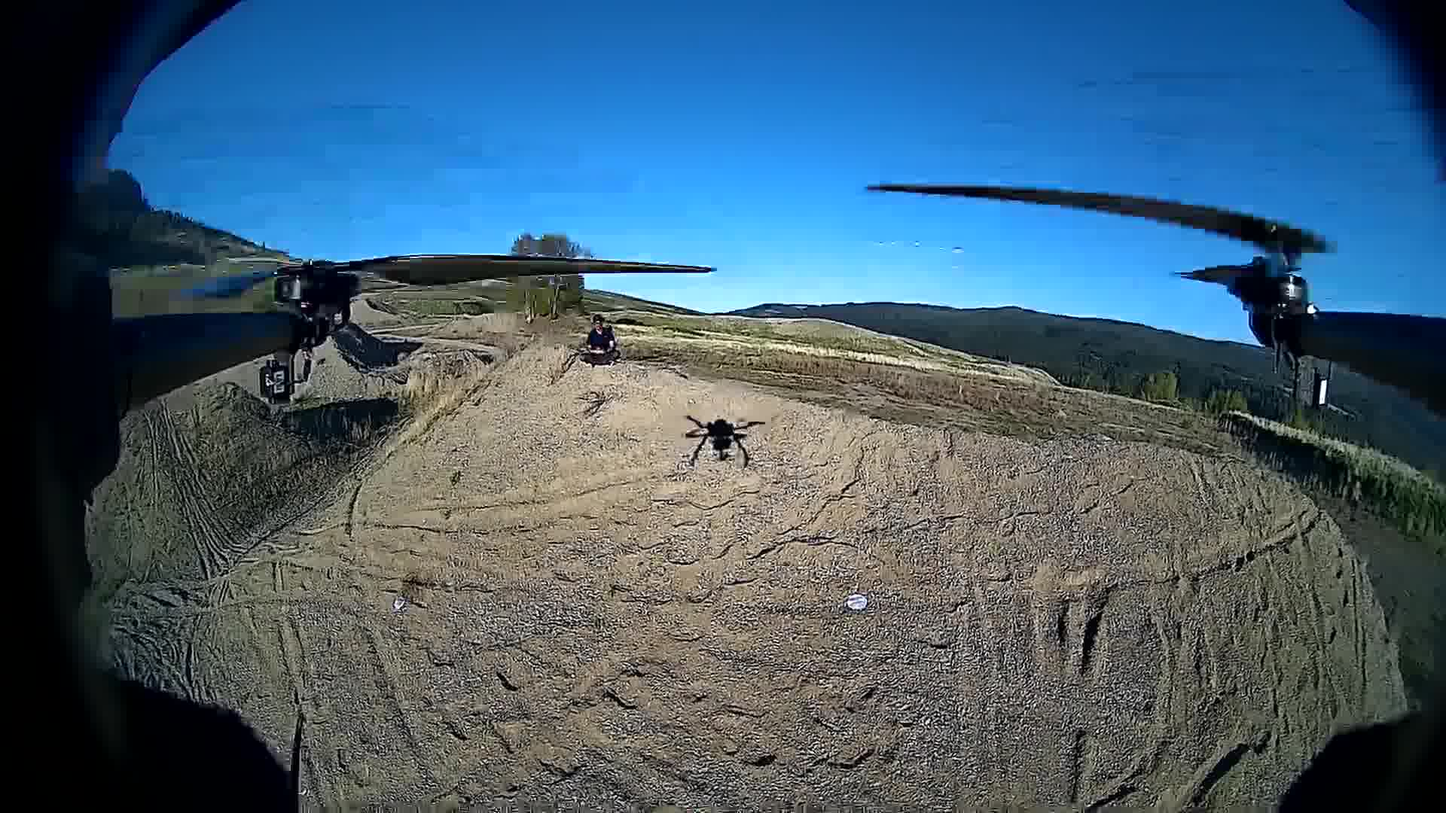Target: (846, 592, 867, 611)
